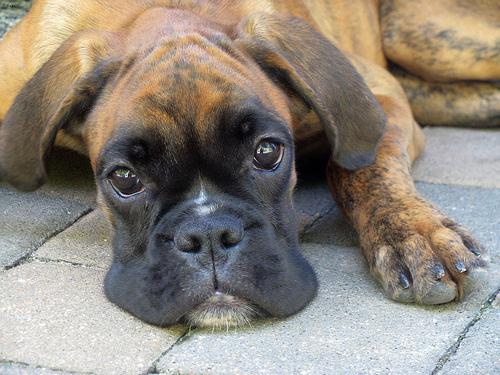dog-boxer: (0, 8, 388, 326)
